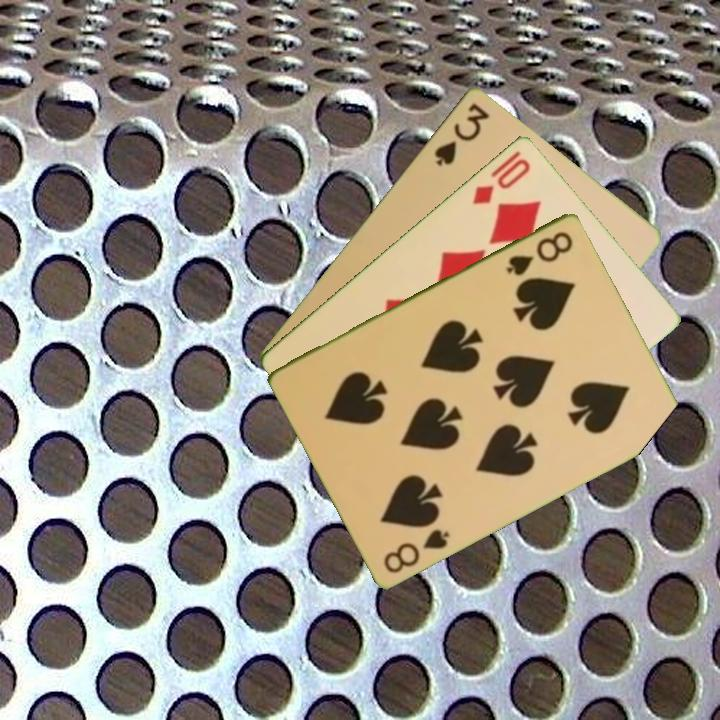10d: (468, 154, 533, 207)
3s: (430, 99, 492, 169)
8s: (502, 227, 576, 279), (380, 525, 453, 576)
